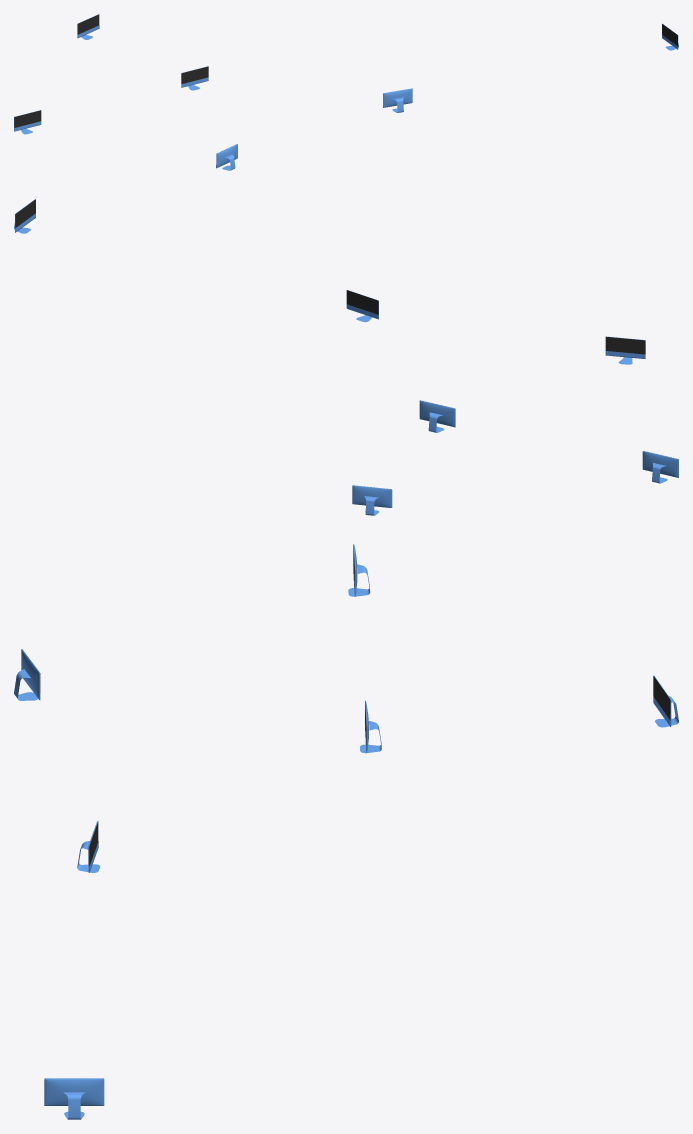
The model's file is snpMonitors.glb.
3 renders of one model, top to bottom at view 1: azimuth 30°, elevation 25°; view 2: azimuth 150°, elevation 25°; view 3: azimuth 270°, elevation 25°, orthographic. The views are drawn at different scales.
Parts seen in each view (by area): view 1: Monitor, Display; view 2: Monitor, Display; view 3: Monitor.
Part boxes in pixels (x1,y1,x2,y2): Monitor: (14, 14, 678, 170); Display: (14, 14, 677, 151); Monitor: (14, 199, 678, 515); Display: (15, 199, 645, 487); Monitor: (14, 544, 678, 1119).
Bounding box in the file's own units: 21.98 × 0.6756 × 11.42.
